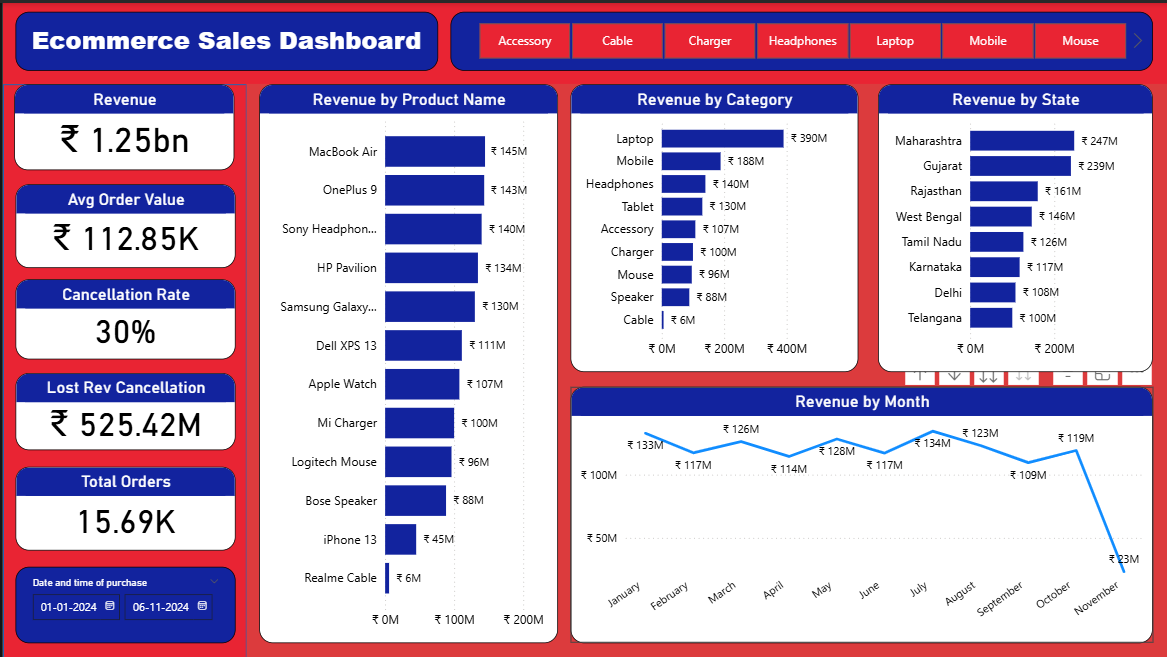

The page's visual inventory and layout, read from the dashboard file:
{"tool":"powerbi","page":{"name":"Page 1","canvas":[1280,720],"ordinal":0},"visuals":[{"type":"shape","box":[0,0,1280.3,89.2],"z":0},{"type":"shape","box":[0,89.2,267.6,631.2],"z":1000},{"type":"barChart","fields":{"Y":["Table.Revenue"],"Category":["Products.Product Name"]},"box":[281.3,89.2,328,613.4],"z":2000},{"type":"barChart","fields":{"Y":["Table.Revenue"],"Category":["Products.Category"]},"box":[623,89.2,315.6,315.6],"z":3000},{"type":"lineChart","fields":{"Category":["Orders.Date and time of purchase.Variation.Date Hierarchy.Year","Orders.Date and time of purchase.Variation.Date Hierarchy.Quarter","Orders.Date and time of purchase.Variation.Date Hierarchy.Month","Orders.Date and time of purchase.Variation.Date Hierarchy.Day"],"Y":["Table.Revenue"]},"box":[623,421.3,639.5,281.3],"z":4000},{"type":"barChart","fields":{"Y":["Table.Revenue"],"Category":["Customers.State"]},"box":[960.6,89.2,301.9,315.6],"z":5000},{"type":"slicer","fields":{"Values":["Products.Category"]},"box":[491.3,9.6,771.2,64.5],"z":6000},{"type":"card","title":"Revenue","fields":{"Values":["Table.Revenue"]},"box":[12.3,89.2,241.5,94.7],"z":7000},{"type":"card","title":"Avg Order Value","fields":{"Values":["Table.Avg_order_Value"]},"box":[13.7,199,241.5,91.9],"z":8000},{"type":"card","title":"Cancellation Rate","fields":{"Values":["Table.Cancellation_Rate"]},"box":[13.7,303.3,241.5,87.8],"z":9000},{"type":"card","title":"Lost Rev Cancellation","fields":{"Values":["Table.Lost_rev_cancellation"]},"box":[13.7,406.2,241.5,85.1],"z":10000},{"type":"card","title":"Total Orders","fields":{"Values":["CountNonNull(Orders.OrderID)"]},"box":[13.7,509.1,241.5,91.9],"z":11000},{"type":"slicer","fields":{"Values":["Orders.Date and time of purchase"]},"box":[13.7,618.9,241.5,83.7],"z":12000},{"type":"textbox","box":[13.7,9.6,463.8,64.5],"z":12001}]}

Visuals, with their boxes in screenshot pixels (x1, y1, x2, y2), scaled from the page's 1280x720 canvas onto the 1167x657 screenshot:
shape: detection(0, 0, 1166, 81)
shape: detection(0, 81, 244, 656)
barChart - Table.Revenue x Products.Product Name: detection(256, 81, 556, 641)
barChart - Table.Revenue x Products.Category: detection(568, 81, 856, 369)
lineChart - Orders.Date and time of purchase.Variation.Date Hierarchy.Year x Orders.Date and time of purchase.Variation.Date Hierarchy.Quarter: detection(568, 384, 1151, 641)
barChart - Table.Revenue x Customers.State: detection(876, 81, 1151, 369)
slicer - Products.Category: detection(448, 9, 1151, 68)
"Revenue" card: detection(11, 81, 231, 168)
"Avg Order Value" card: detection(12, 182, 233, 265)
"Cancellation Rate" card: detection(12, 277, 233, 357)
"Lost Rev Cancellation" card: detection(12, 371, 233, 448)
"Total Orders" card: detection(12, 465, 233, 548)
slicer - Orders.Date and time of purchase: detection(12, 565, 233, 641)
textbox: detection(12, 9, 435, 68)
